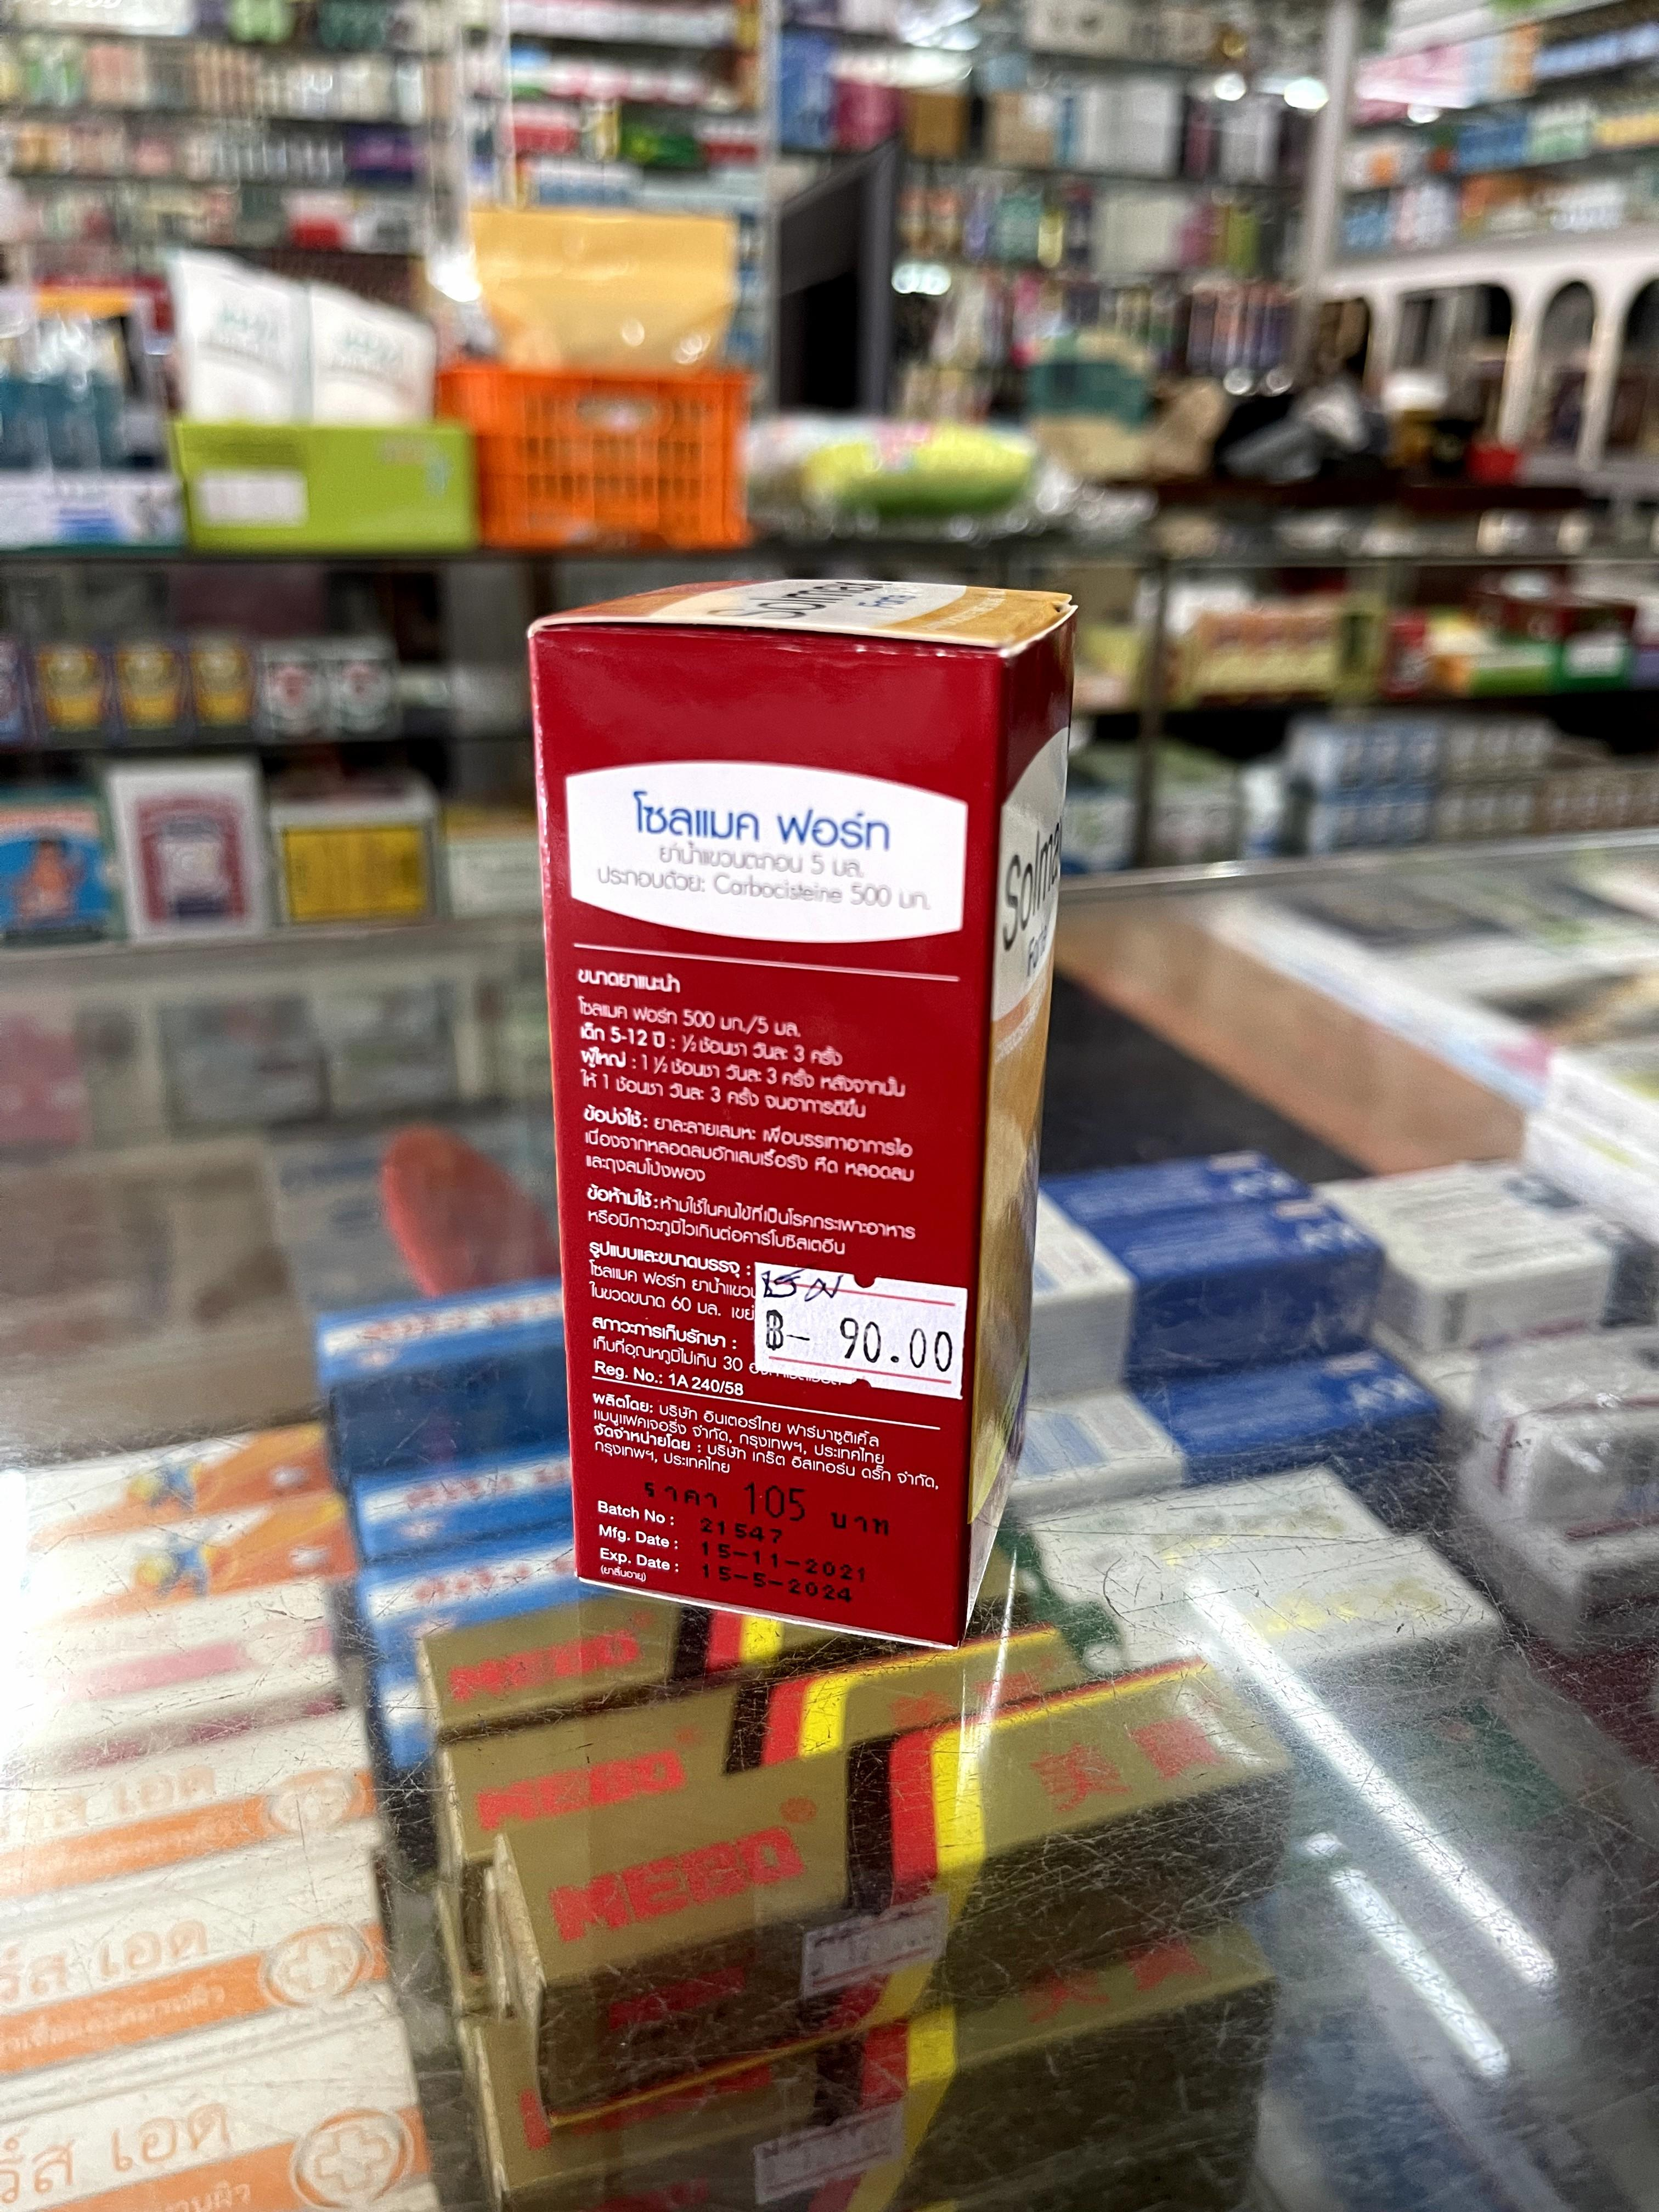Solmax: (540, 578, 1084, 1641)
